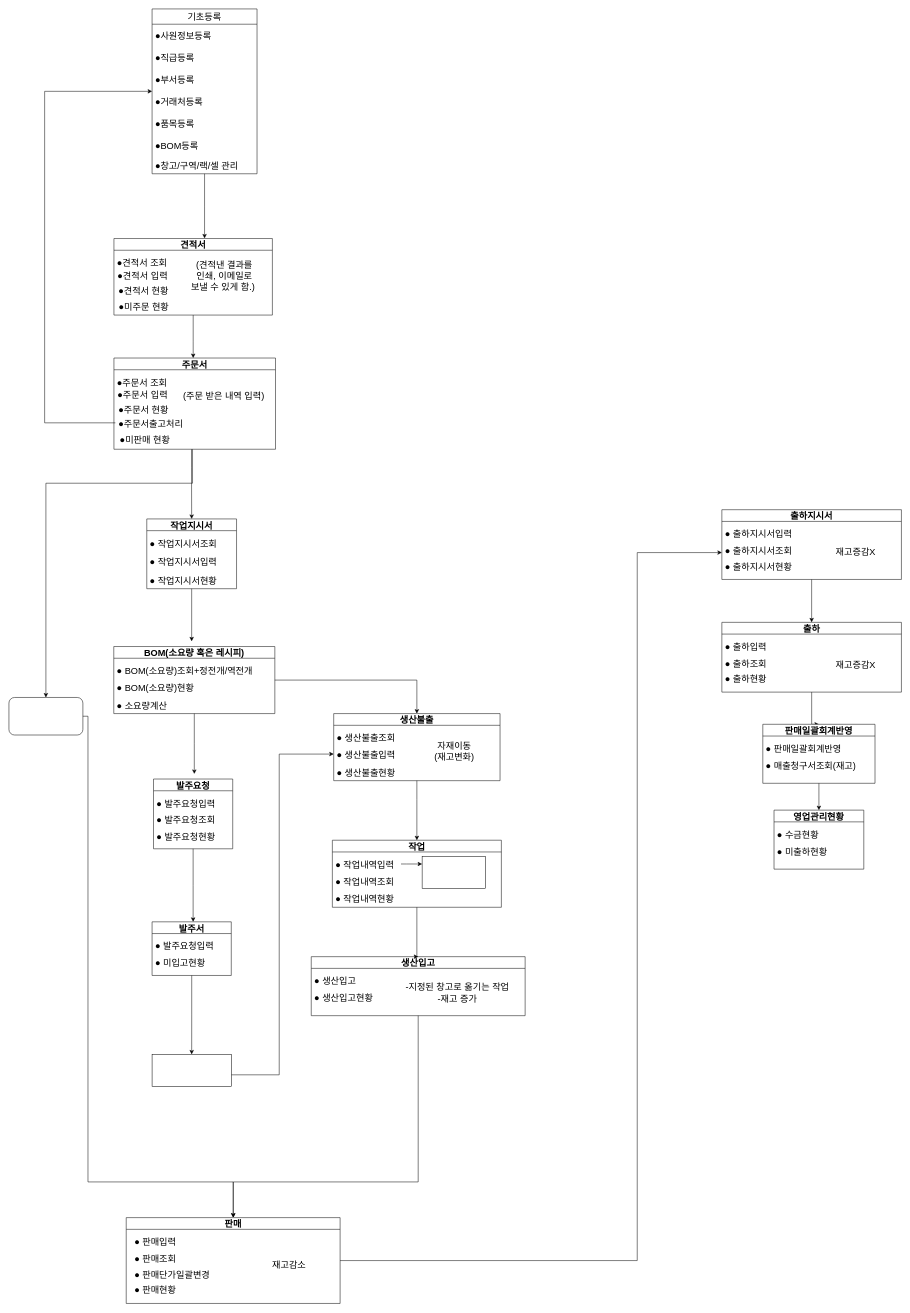
Image size: 910x1313. Some labels were removed from this diagram. The shapes that lost their labels are listed below. From the top down, each one's centre as x and y in pixels, then its label:
[45,716]: 바로 판매 가능
[454,872]: 작업지시서 버튼으로도 입력가능
[191,1070]: 구매입력(재고증가)
